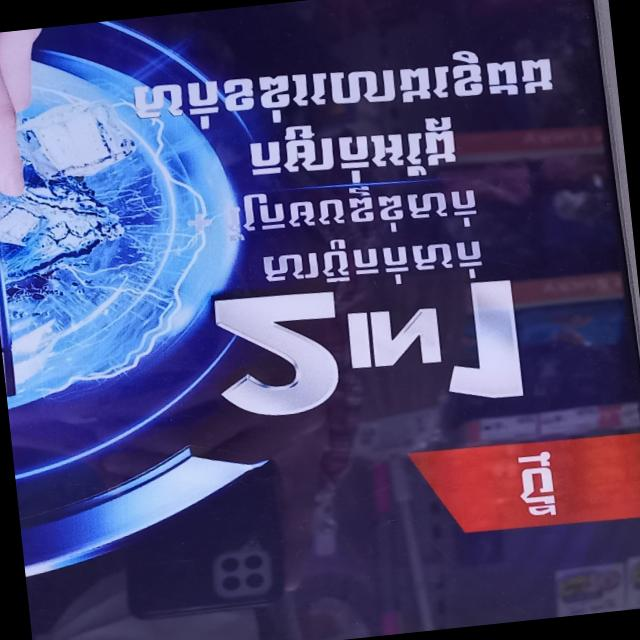503: (446, 275, 543, 409)
631: (202, 287, 347, 435)
Yolov11_80vkh: (117, 43, 557, 137), (222, 181, 480, 247), (245, 113, 462, 184), (257, 235, 496, 291), (506, 450, 566, 520)
